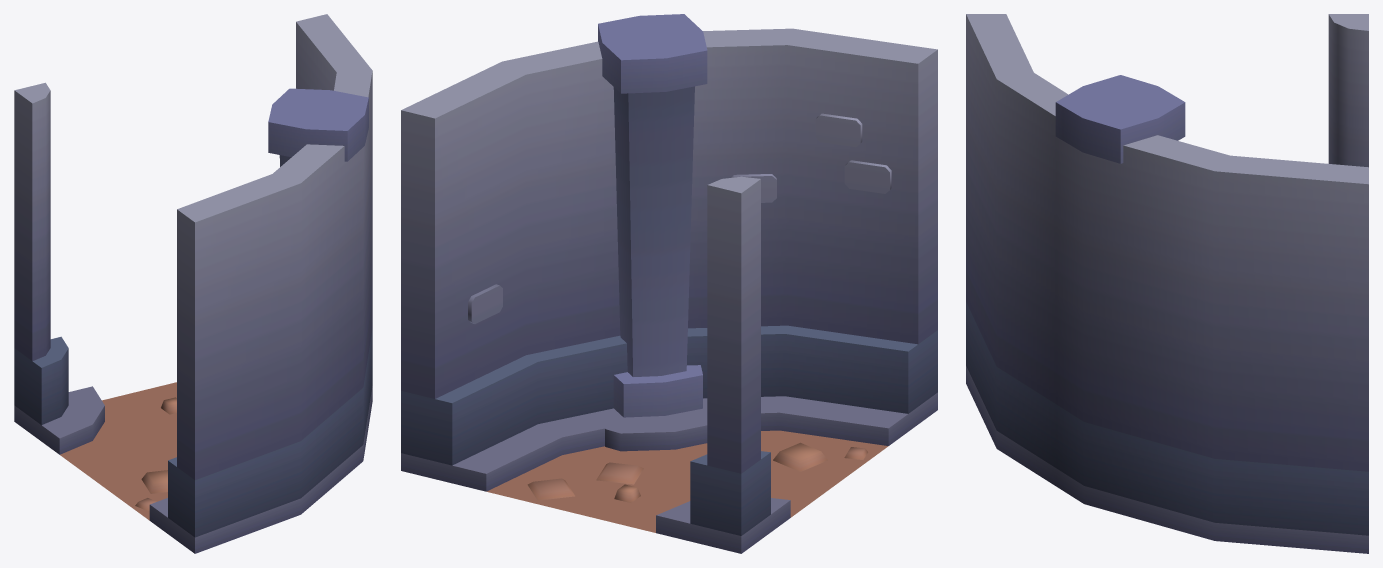
Rendered from corridor-corner.glb.
3 renders of one model, left to right at view 1: azimuth 30°, elevation 25°; view 2: azimuth 150°, elevation 25°; view 3: azimuth 270°, elevation 25°, orthographic. The views are drawn at different scales.
Parts seen in each view (by area): view 1: corridor-corner4; view 2: corridor-corner4; view 3: corridor-corner4.
Boxes of the visible parts, box(x1,y1,x2,y2) form: corridor-corner4: box(14, 14, 372, 553); corridor-corner4: box(401, 14, 937, 553); corridor-corner4: box(966, 14, 1368, 553).
Bounding box in the file's own units: 4 × 4.23 × 4.
Materials: 1 (1 with a texture image).
